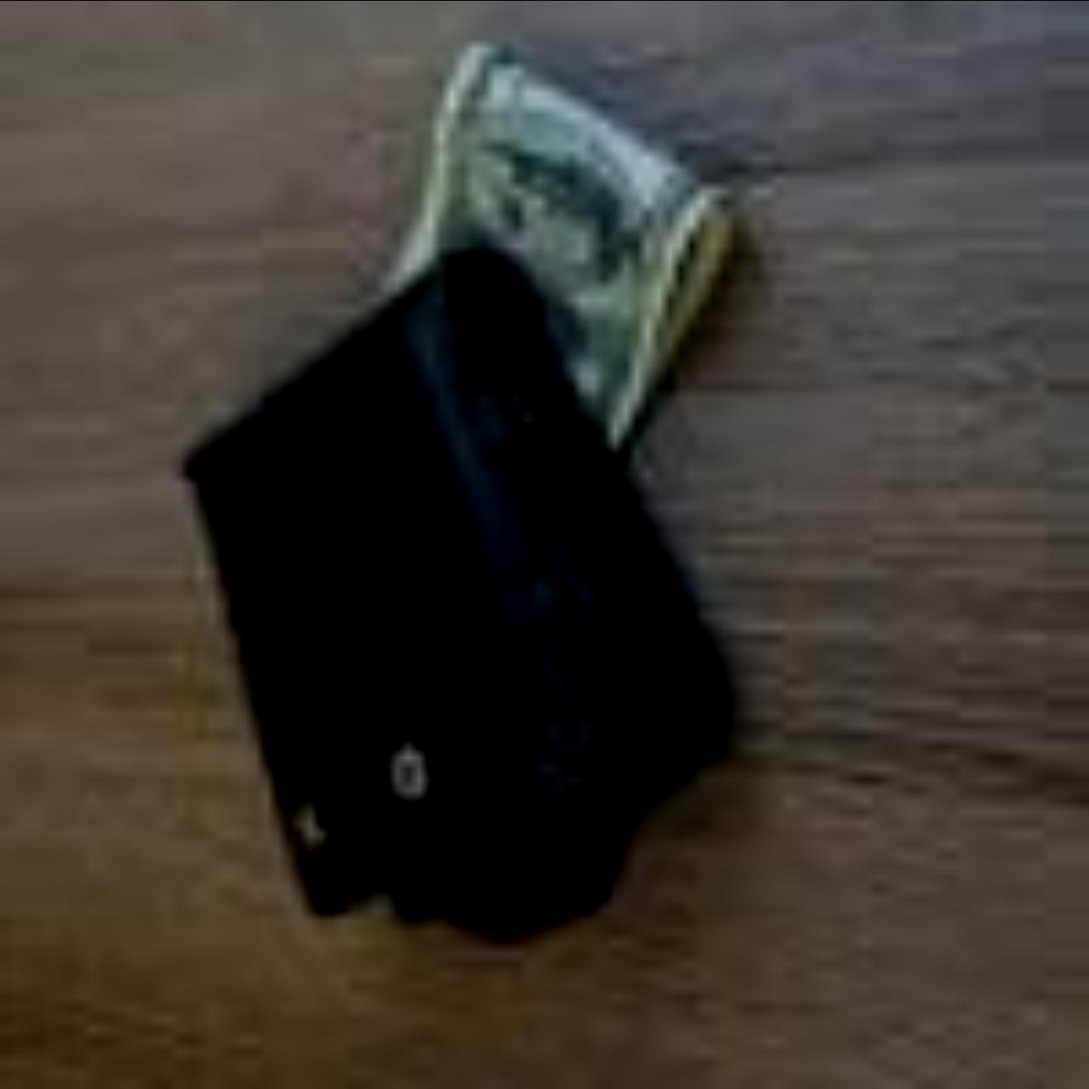wallet: (88, 180, 719, 986)
